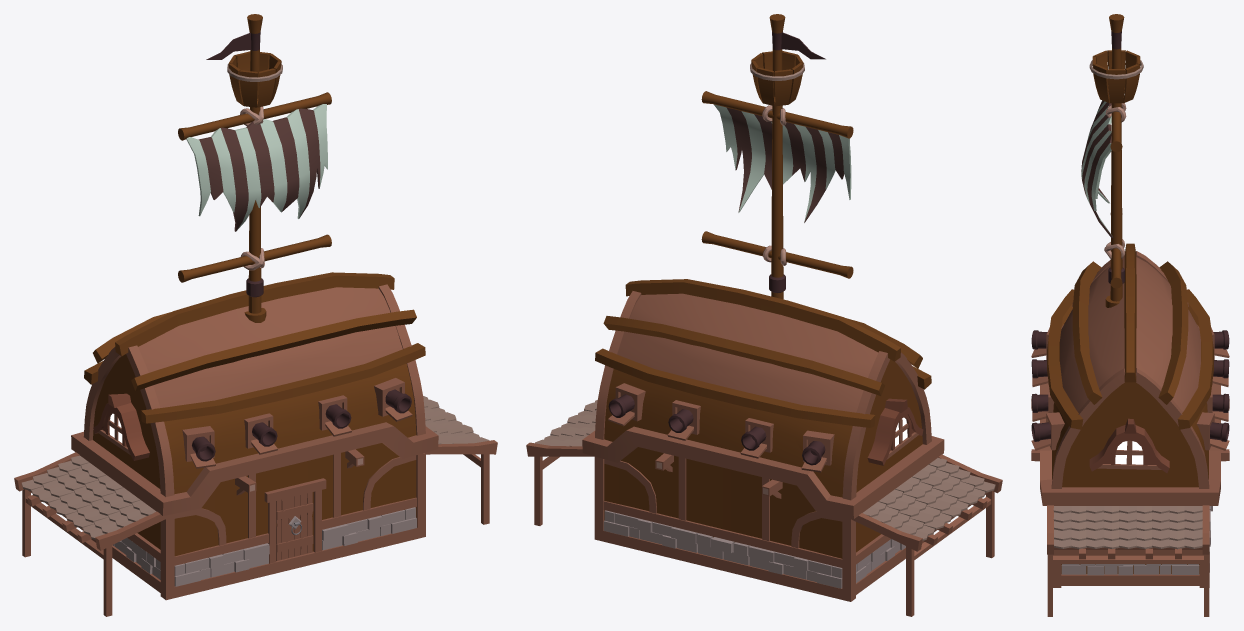
Rendered from quaternius-pirate-environment-house-3.glb.
The picture shows the model from 3 angles, left to right: view 1: azimuth 30°, elevation 25°; view 2: azimuth 150°, elevation 25°; view 3: azimuth 270°, elevation 25°; orthographic projection. The views are drawn at different scales.
Visible parts, largest first — view 1: Environment_House3; view 2: Environment_House3; view 3: Environment_House3.
Boxes of the visible parts, box(x1,y1,x2,y2) form: Environment_House3: box(14, 14, 497, 616); Environment_House3: box(526, 14, 1002, 616); Environment_House3: box(1031, 14, 1229, 616).
Size of the model in its own units: 8.46 by 10.64 by 3.78.
Materials: 2 (1 with a texture image).
